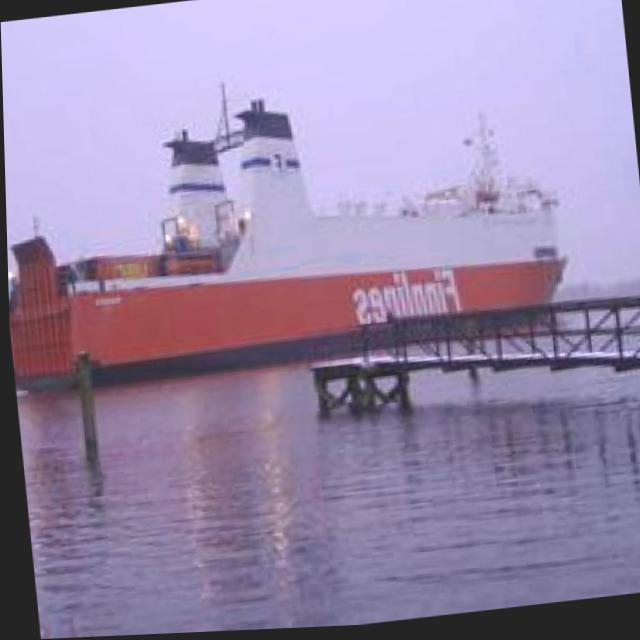ship2: (6, 86, 569, 394)
